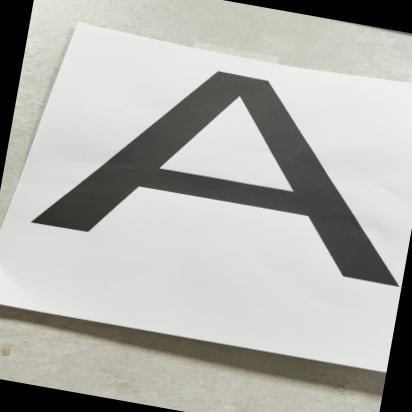seat: (10, 30, 412, 337)
